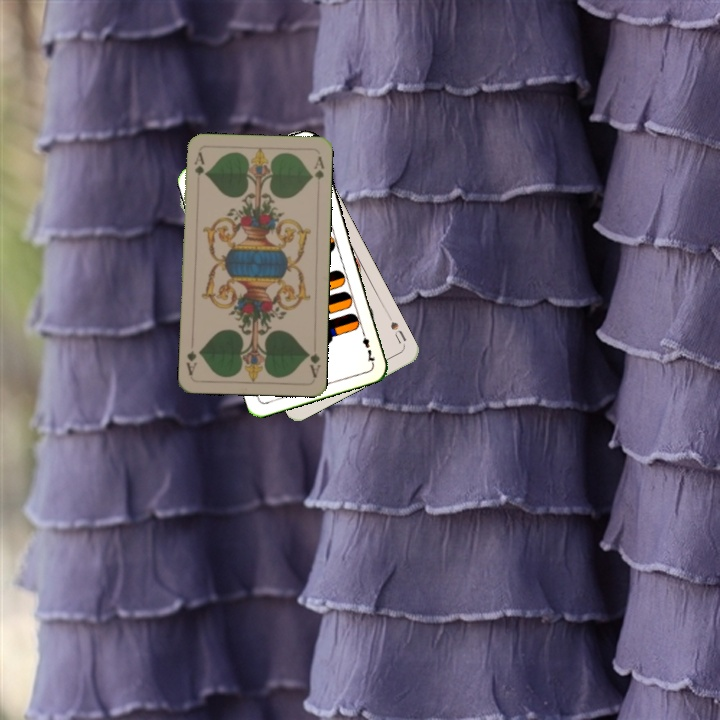E7: (358, 326, 377, 366)
GA: (190, 148, 207, 188), (303, 347, 322, 380)
SU: (384, 311, 409, 349)
